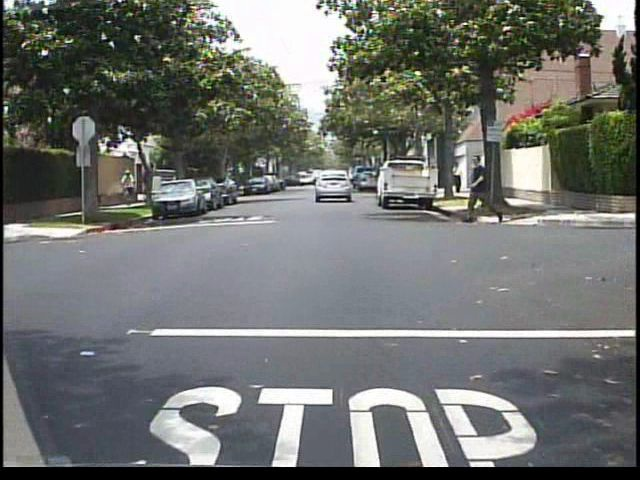person: (458, 152, 506, 229), (119, 167, 141, 204), (170, 169, 187, 203), (452, 160, 464, 198)
